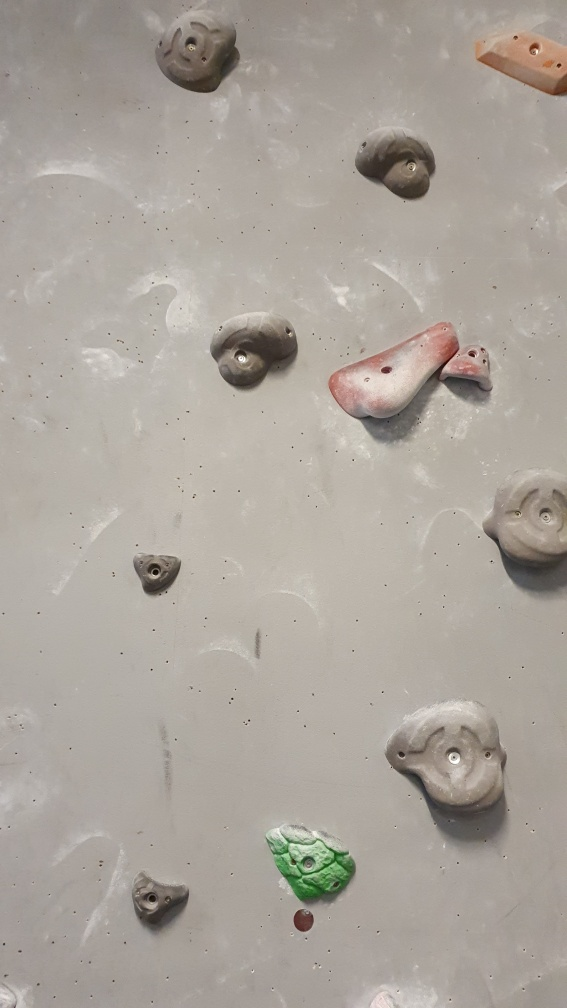Crimp: (128, 546, 185, 597)
Hand Start: (292, 906, 318, 938)
Jug: (383, 699, 509, 823), (479, 466, 567, 571), (154, 7, 240, 92), (209, 310, 300, 389), (353, 123, 439, 200)
